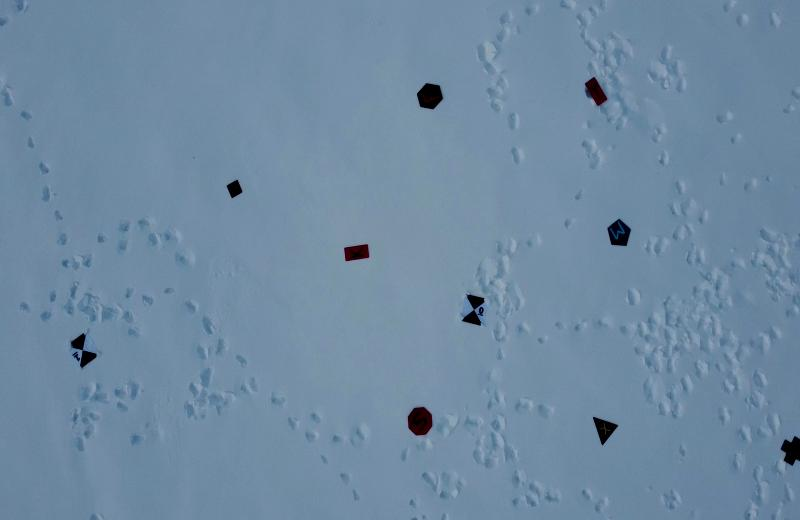Cross: (779, 433, 800, 471)
Hexagon: (412, 80, 445, 110)
Octagon: (406, 404, 435, 438)
Pentagon: (606, 215, 635, 248)
Rectangle: (339, 238, 373, 269), (583, 76, 607, 108)
Square: (225, 178, 244, 198)
Triangle: (590, 411, 620, 449)
